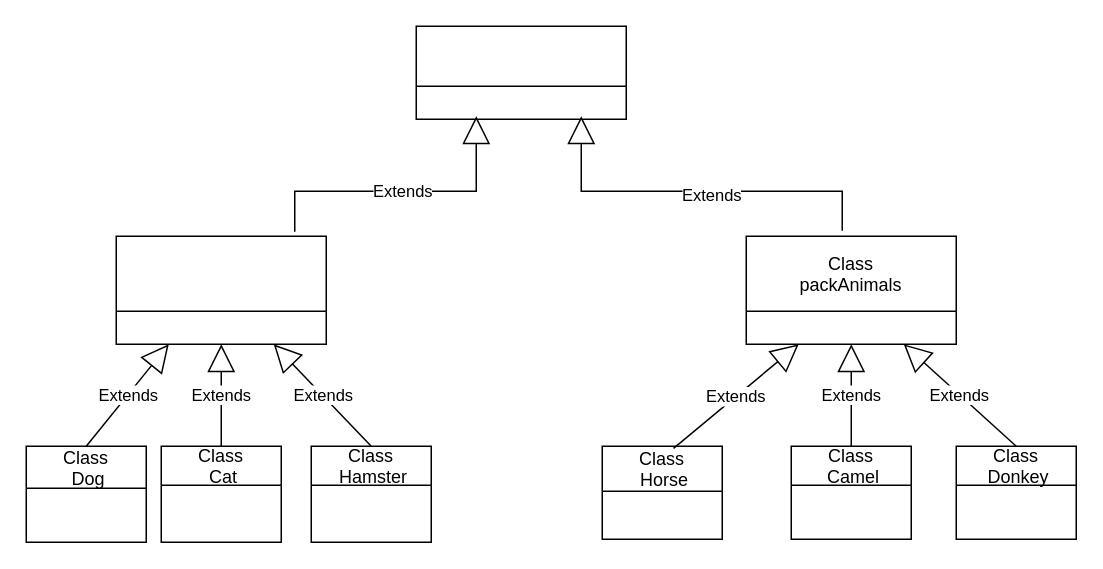
Image size: 1103x569. Some labels were removed from this diagram. The shapes that lost their labels are listed below. From the top down, each one's centre as x and y in pixels, then its label:
the point at 520,72: Class Animals
the point at 220,289: Class homeAnimals
